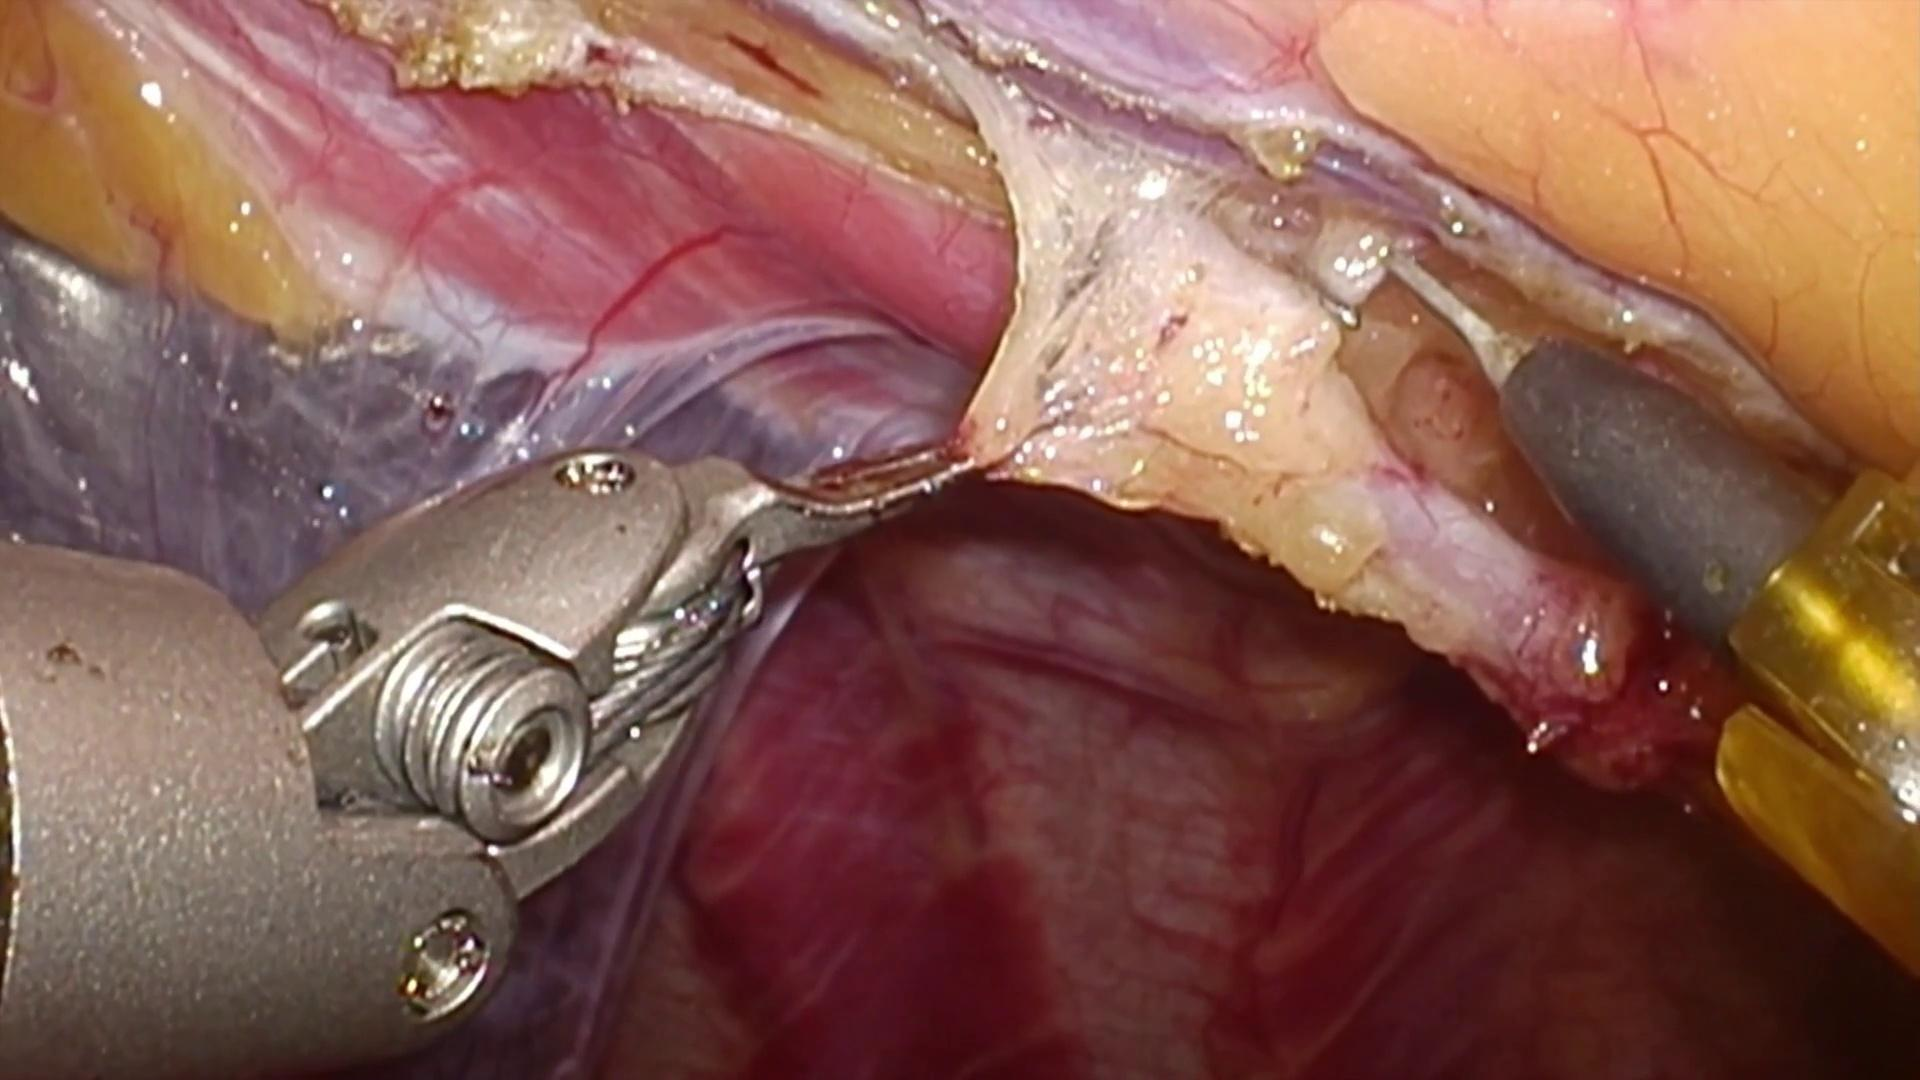Cautery_Spatula: (1378, 232, 1837, 657)
Debakey: (696, 417, 1000, 570)
